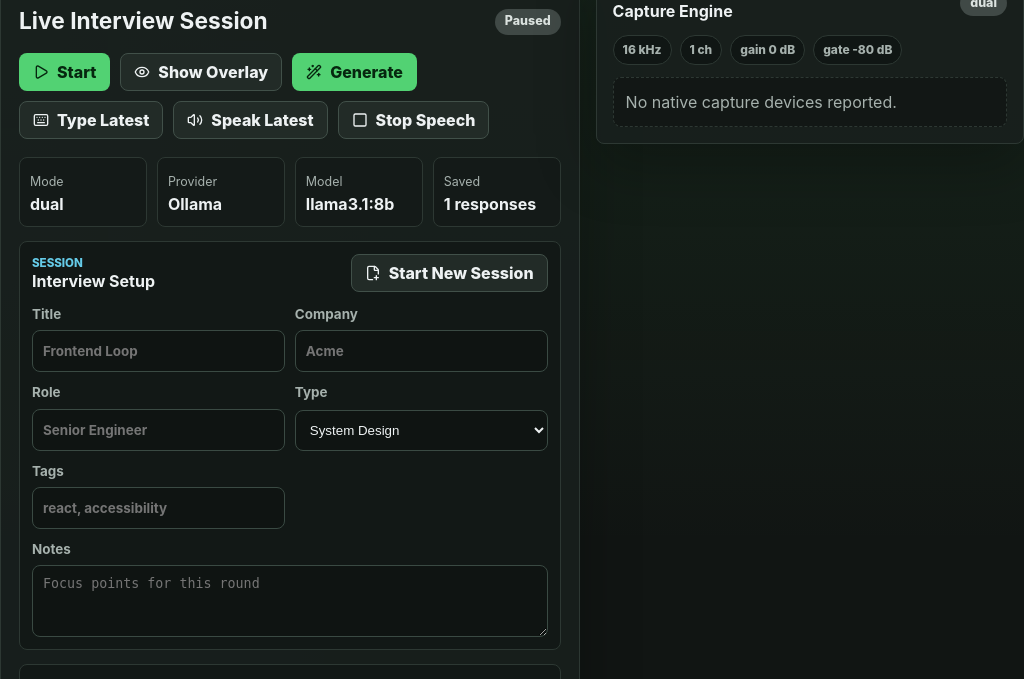
Test: Dashboard collaboration helper › speaks and stops the latest saved answer on demand
This screenshot has width=1024, height=679.
Expected: the heading "Live Interview Session" is shown, [19,7,268,34]
Step 1. Click the button "Speak Latest" → [250, 120], box [173,101,328,139]
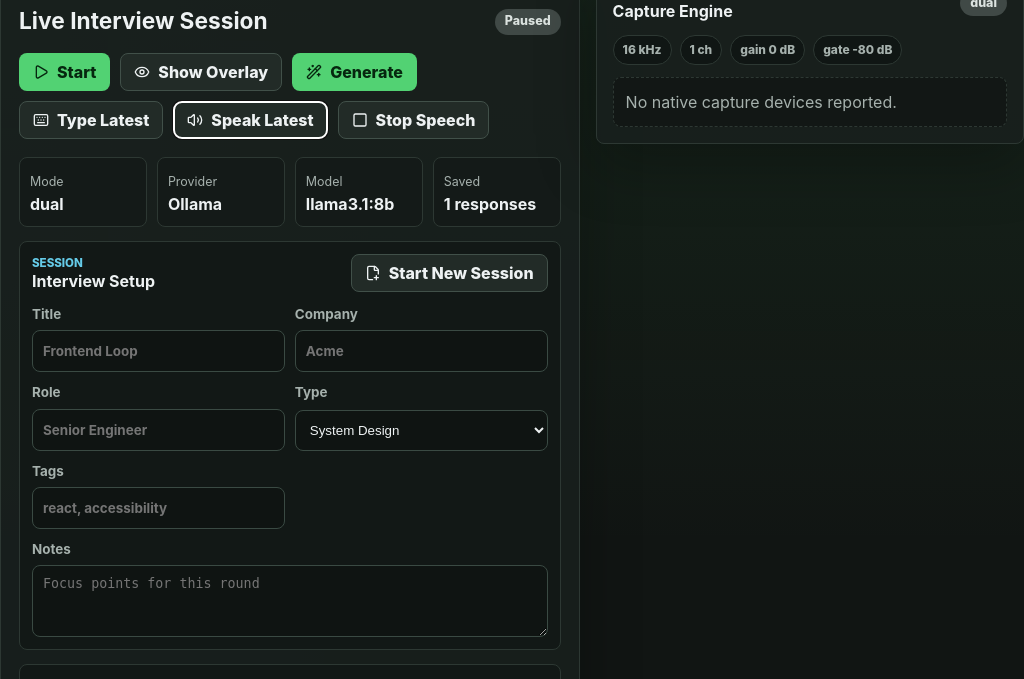
Step 2. Click the button "Stop Speech" → [414, 120], box [338,101,489,139]
(page scrolled)
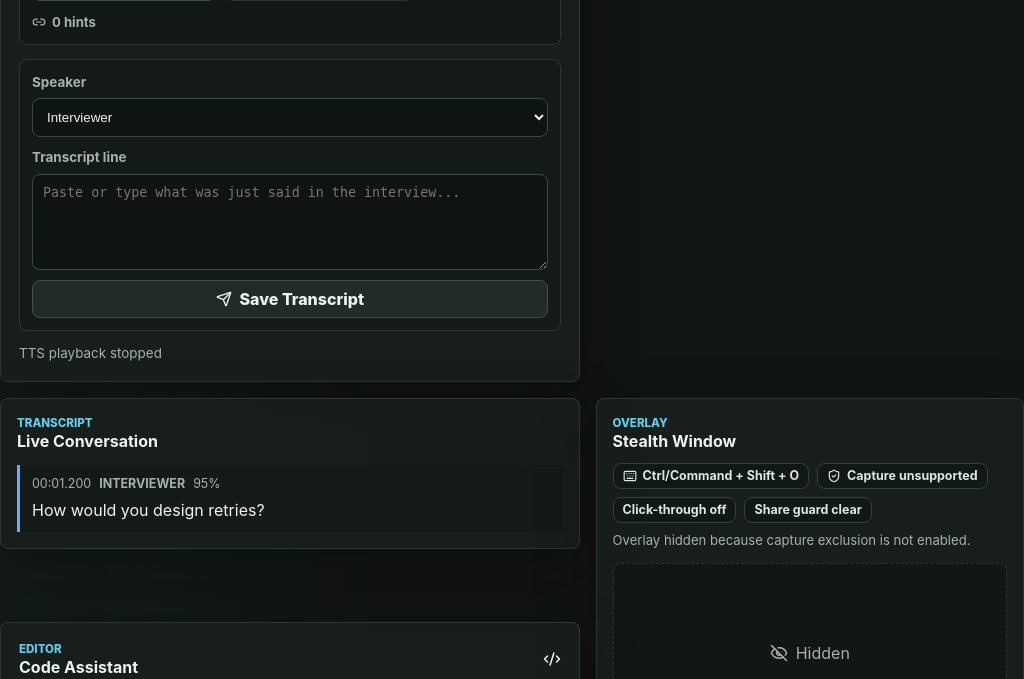
Now the text "TTS playback stopped" is shown, box [19,345,162,361]
